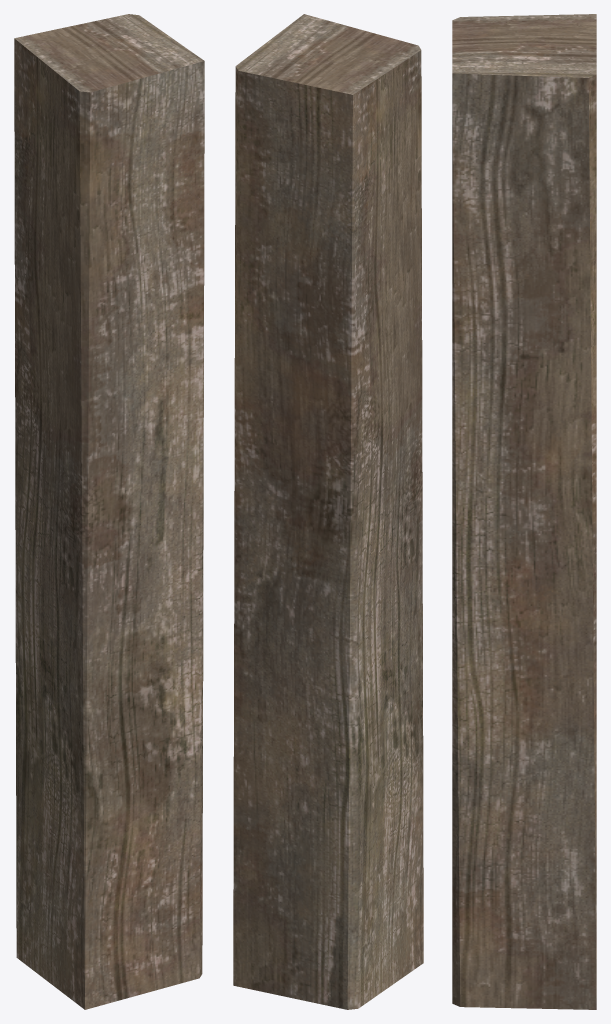
The model's file is SM_Beam_A_02.fbx.
3 views of the same model, side by side, from view 1: azimuth 30°, elevation 25°; view 2: azimuth 150°, elevation 25°; view 3: azimuth 270°, elevation 25° (orthographic).
Parts seen in each view (by area): view 1: SM_Beam_A_02; view 2: SM_Beam_A_02; view 3: SM_Beam_A_02.
Boxes of the visible parts, <box> form: SM_Beam_A_02: <box>14,14,204,1009</box>; SM_Beam_A_02: <box>233,14,423,1009</box>; SM_Beam_A_02: <box>452,14,596,1009</box>.
Bounding box in the file's own units: 26.18 × 26.18 × 187.
Materials: 1 (1 with a texture image).
